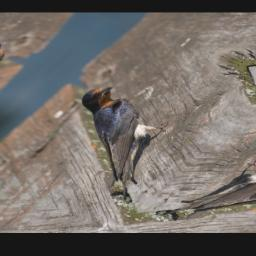Swallow: (16, 81, 209, 202)
